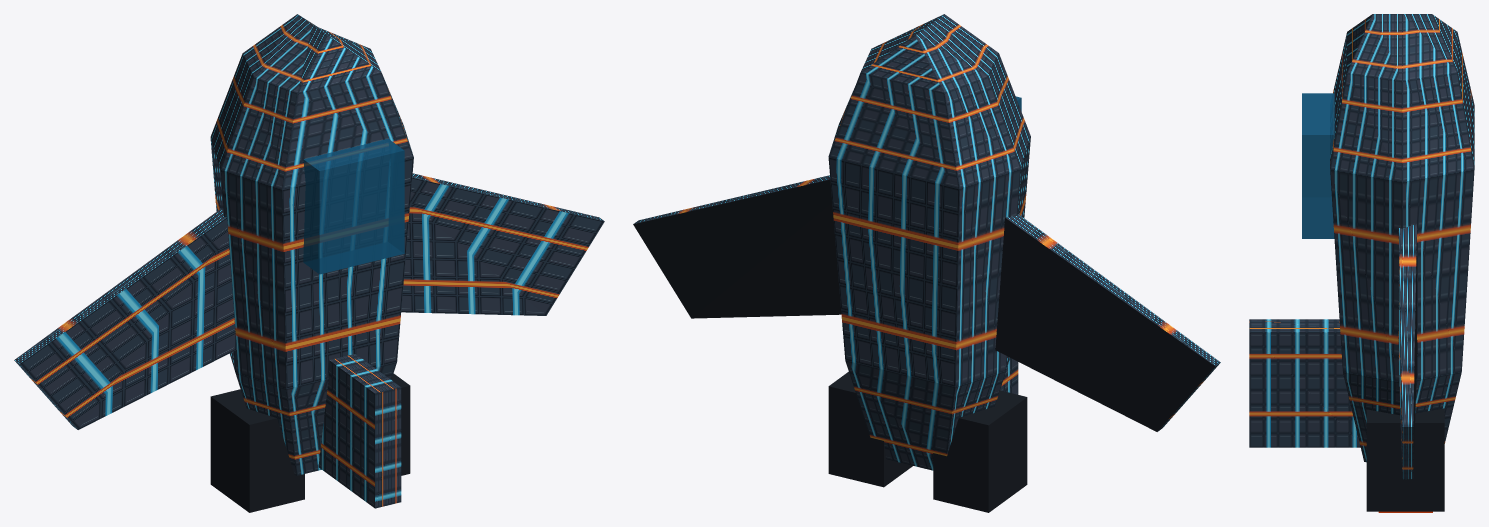
The model's file is nave_espacial.obj.
3 views of the same model, side by side, from view 1: azimuth 30°, elevation 25°; view 2: azimuth 150°, elevation 25°; view 3: azimuth 270°, elevation 25° (orthographic).
Visible parts, largest first — view 1: NaveEspacial; view 2: NaveEspacial; view 3: NaveEspacial.
Boxes of the visible parts, box(x1,y1,x2,y2) form: NaveEspacial: box(14, 14, 604, 512); NaveEspacial: box(633, 14, 1220, 512); NaveEspacial: box(1249, 14, 1474, 512).
Bounding box in the file's own units: 8 × 6.02 × 2.65.
4 materials, 1 textured.
